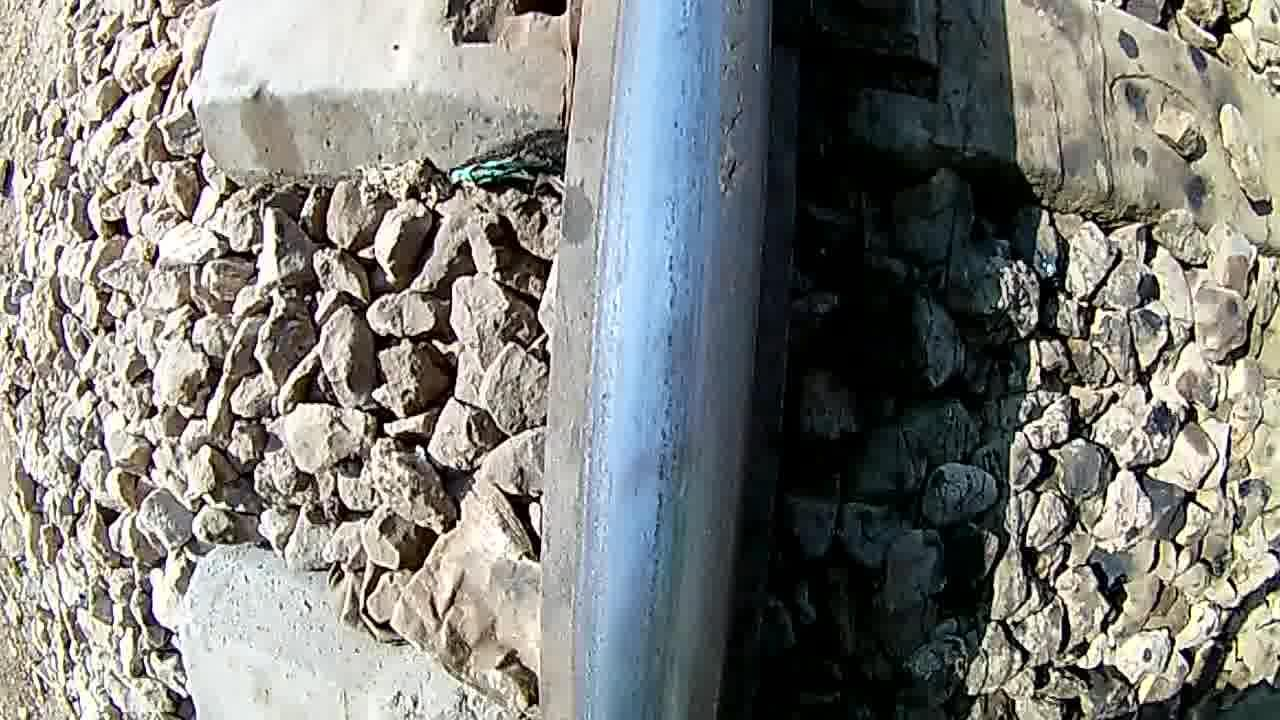crack: (586, 0, 778, 533)
